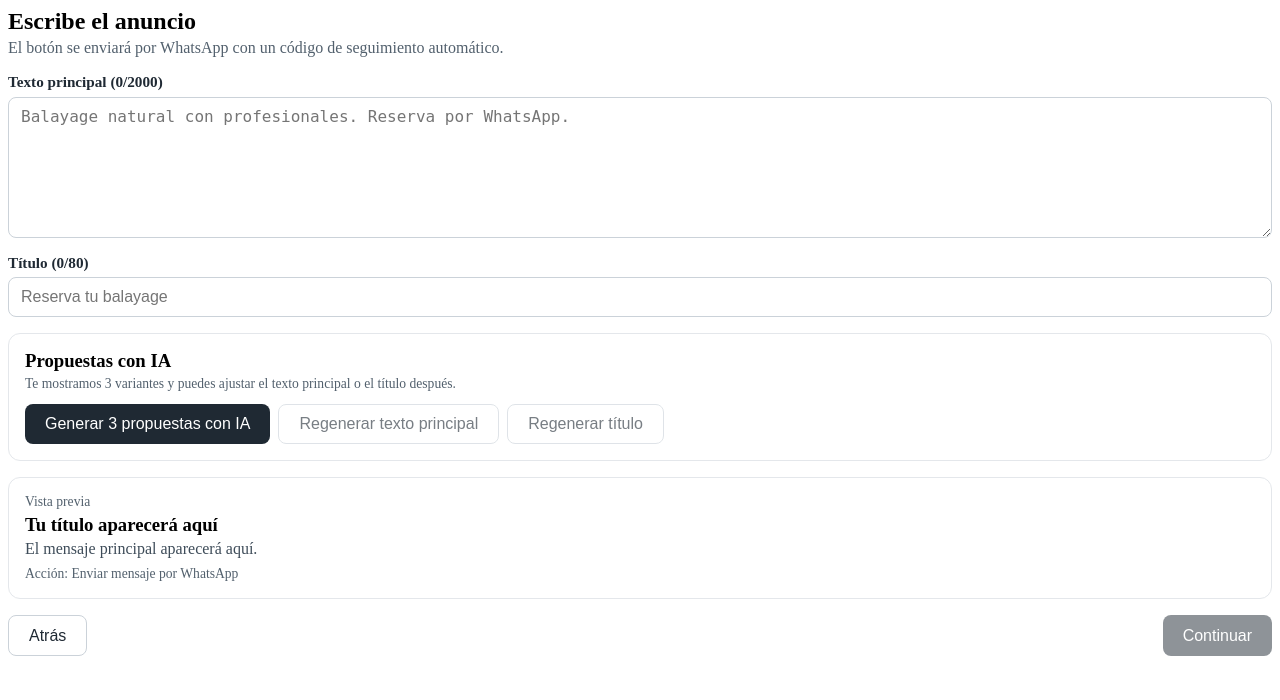
Test: CopyStep › regenera título y actualiza solo headline en el draft
Click the button "Generar 3 propuestas con IA" at (148, 424), box [25,404,270,444]
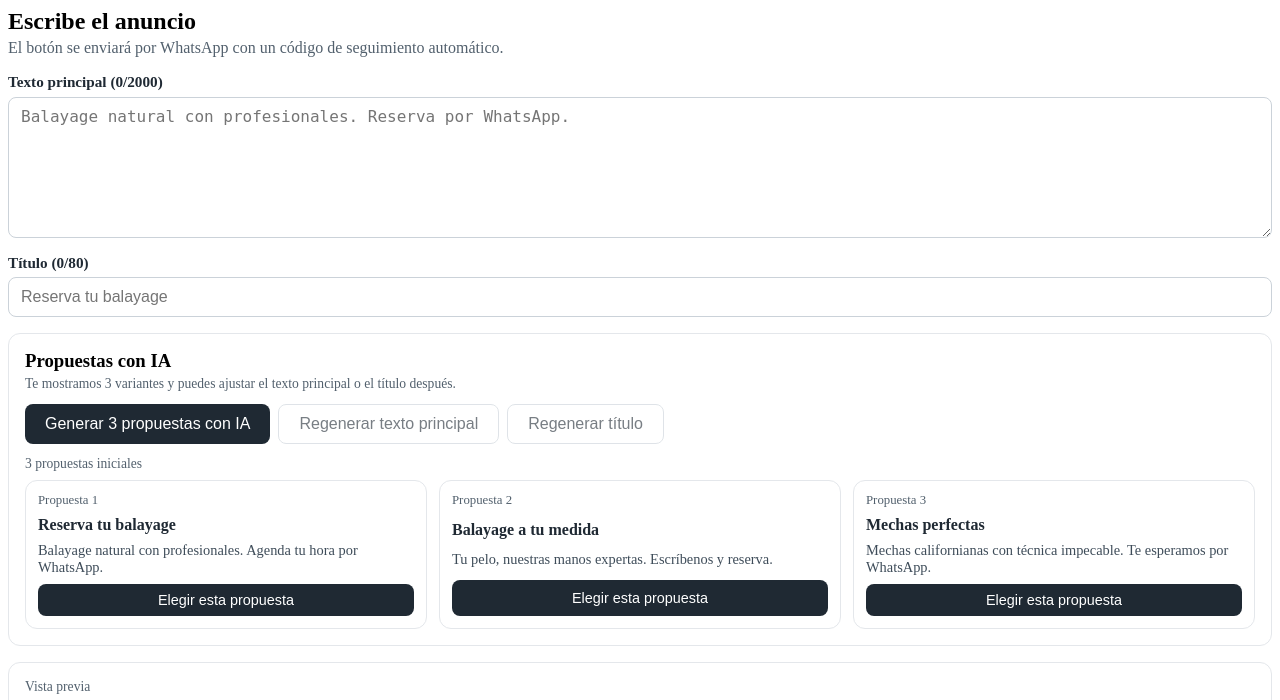
Check: the number of buttons "Elegir esta propuesta" is 3
Click the button "Elegir esta propuesta" below "Reserva tu balayage" at (226, 600), box [38,584,414,616]
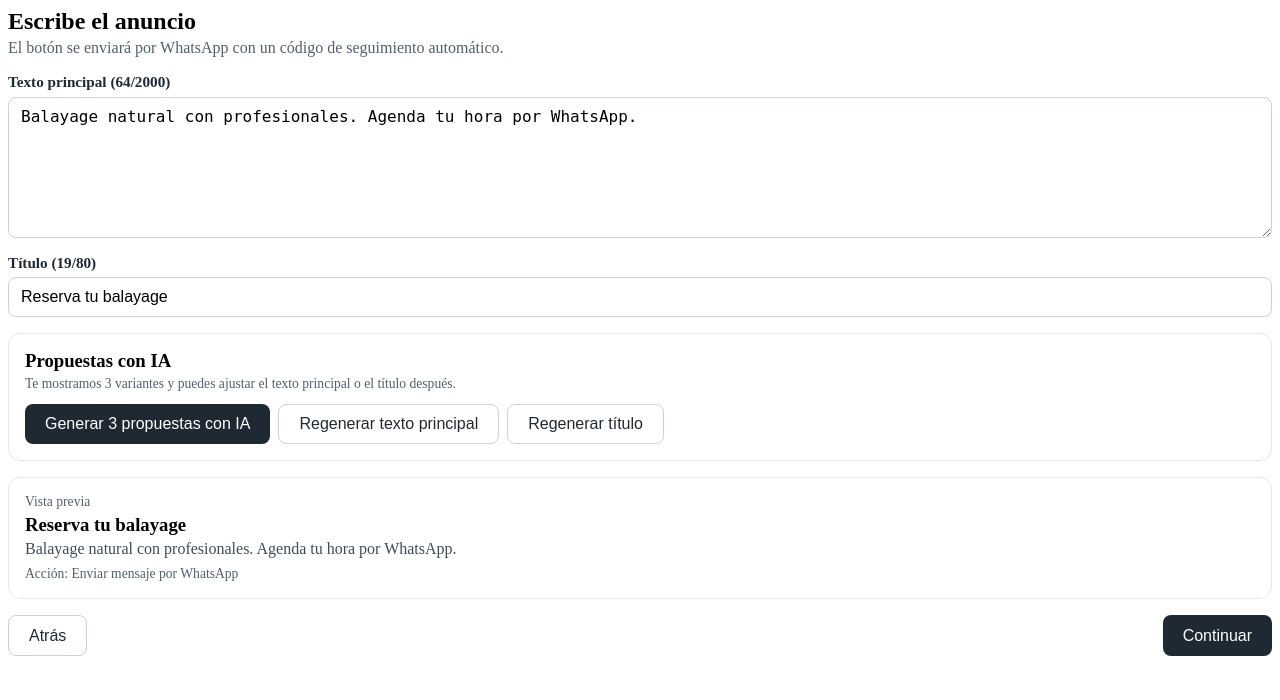
Check: the button "Regenerar título" is enabled
Click the button "Regenerar título" at (586, 424), box [507,404,664,444]
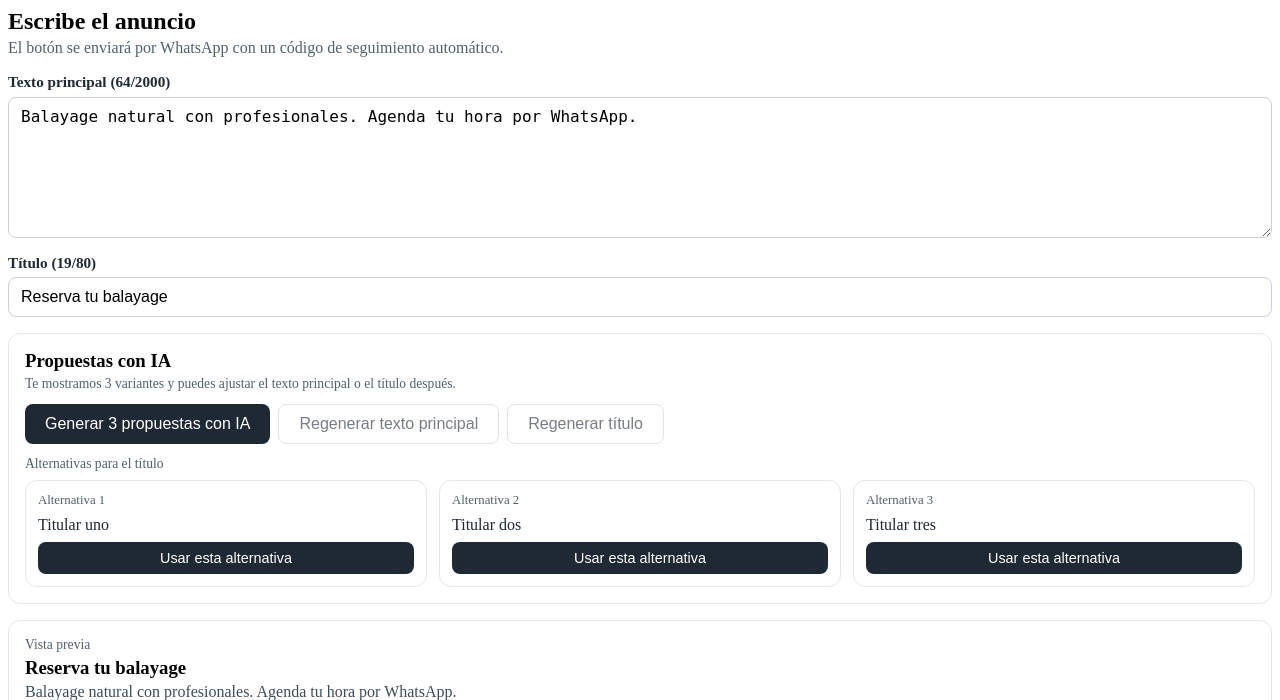
Check: the number of buttons "Usar esta alternativa" is 3
Click the button "Usar esta alternativa" below "Titular uno" at (226, 558), box [38,542,414,574]
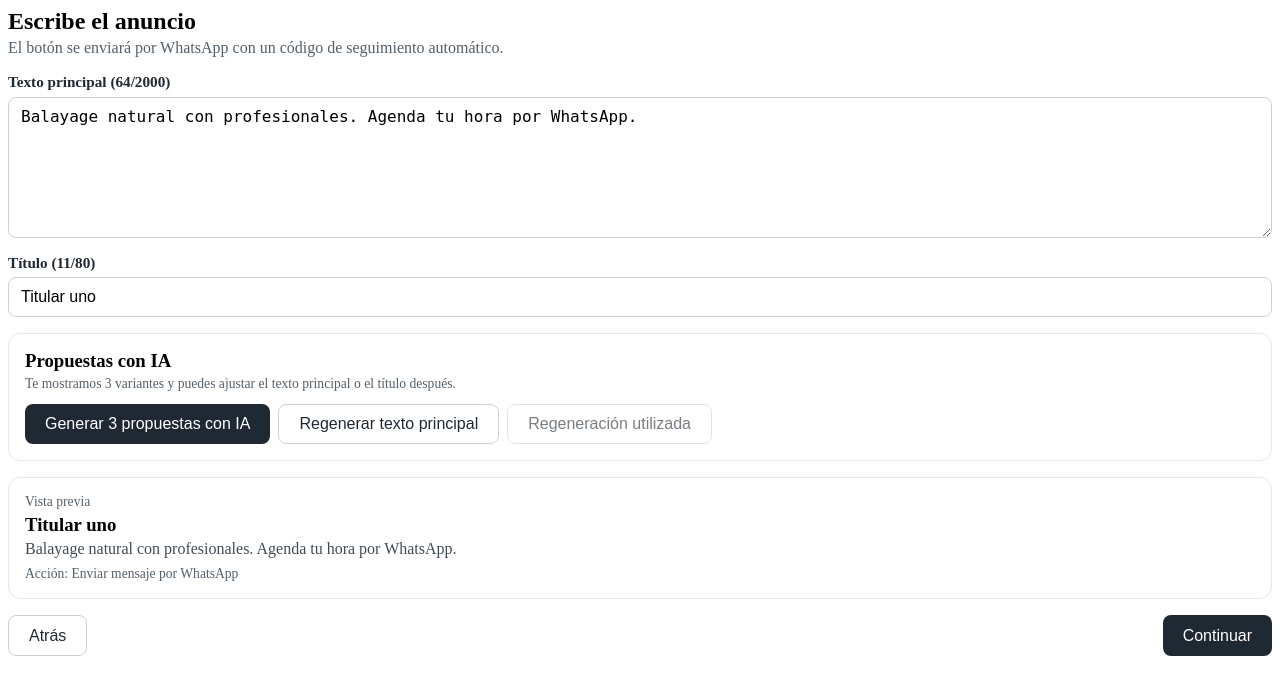
Check: the text box showing "Balayage natural con profesionales. Agenda tu hora por WhatsApp." is shown, box [8,97,1272,238]
Check: the field showing "Titular uno" is shown, box [8,277,1272,317]
